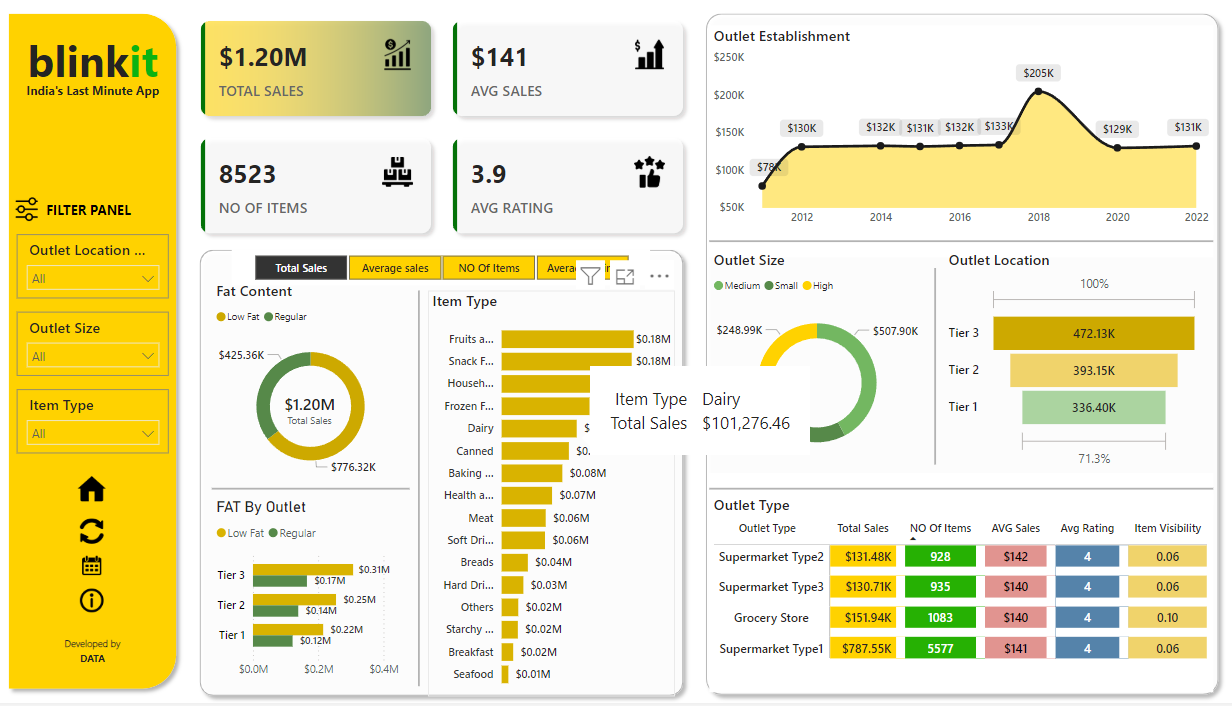

This screenshot's page, from the dashboard's own definition file:
{"tool":"powerbi","page":{"name":"Dashboard","canvas":[1400,800],"ordinal":0},"visuals":[{"type":"shape","box":[13.9,25,204.2,768.1],"z":0},{"type":"textbox","box":[32.2,46.9,168.9,77.7],"z":1000},{"type":"textbox","box":[32.2,105.9,168.9,37.5],"z":2000},{"type":"cardVisual","fields":{"Data":["BlinkIT Grocery Data.Total Sales","BlinkIT Grocery Data.Average sales","BlinkIT Grocery Data.NO Of Items","BlinkIT Grocery Data.Average rating"]},"box":[219.1,25.5,570.3,270.2],"z":3000},{"type":"shape","box":[226.5,286.9,555,513.4],"z":4000},{"type":"donutChart","title":"Fat Content","fields":{"Y":["BlinkIT Grocery Data.Total Sales"],"Category":["BlinkIT Grocery Data.Item Fat Content"]},"box":[248,331.1,219.8,230.6],"z":5000},{"type":"slicer","fields":{"Values":["Metrics.Metrics"]},"box":[270.8,296.2,465.1,40.2],"z":6000},{"type":"cardVisual","fields":{"Data":["BlinkIT Grocery Data.Total Sales"]},"box":[298.9,433,118,83.1],"z":7000},{"type":"clusteredBarChart","title":"FAT By Outlet","fields":{"Y":["BlinkIT Grocery Data.Total Sales"],"Series":["BlinkIT Grocery Data.Item Fat Content"],"Category":["BlinkIT Grocery Data.Outlet Location Type"]},"box":[248,572.4,219.8,209.1],"z":8000},{"type":"shape","box":[248,544.2,219.8,34.9],"z":9000},{"type":"shape","box":[467.8,341.8,21.4,439.7],"z":10000},{"type":"barChart","title":"Item Type","fields":{"Y":["BlinkIT Grocery Data.Total Sales"],"Category":["BlinkIT Grocery Data.Item Type"]},"box":[489.3,341.8,274.8,451.7],"z":11000},{"type":"shape","box":[788.2,25.5,587.1,774.8],"z":12000},{"type":"lineChart","title":"Outlet Establishment","fields":{"Y":["BlinkIT Grocery Data.Total Sales"],"Category":["BlinkIT Grocery Data.Outlet Establishment Year"]},"box":[801.6,46.9,560.3,231.9],"z":13000},{"type":"shape","box":[801.6,269.4,560.3,34.9],"z":14000},{"type":"donutChart","title":"Outlet Size","fields":{"Y":["BlinkIT Grocery Data.Total Sales"],"Category":["BlinkIT Grocery Data.Outlet Size"]},"box":[801.6,296.2,239.9,248],"z":15000},{"type":"shape","box":[1041.6,316.4,21.4,218.5],"z":16000},{"type":"funnel","title":"Outlet Location","fields":{"Category":["BlinkIT Grocery Data.Outlet Location Type"],"Y":["Sum(BlinkIT Grocery Data.Sales)"]},"box":[1063,296.2,288.2,248],"z":17000},{"type":"shape","box":[801.6,544.2,560.3,34.9],"z":18000},{"type":"pivotTable","title":"Outlet Type","fields":{"Values":["BlinkIT Grocery Data.Total Sales","BlinkIT Grocery Data.NO Of Items","BlinkIT Grocery Data.Average sales","BlinkIT Grocery Data.Average rating","Avg(BlinkIT Grocery Data.Item Visibility)"],"Rows":["BlinkIT Grocery Data.Outlet Type"]},"box":[801.6,568.4,560.3,219.8],"z":19000},{"type":"slicer","fields":{"Values":["BlinkIT Grocery Data.Outlet Location Type"]},"box":[32.2,278.8,168.9,71],"z":20000},{"type":"slicer","fields":{"Values":["BlinkIT Grocery Data.Outlet Size"]},"box":[32.2,364.6,168.9,71],"z":21000},{"type":"slicer","fields":{"Values":["BlinkIT Grocery Data.Item Type"]},"box":[32.2,451.7,168.9,71],"z":22000},{"type":"textbox","box":[55.4,237.8,121.6,29.7],"z":23000},{"type":"image","box":[18.9,233.8,47.3,36.5],"z":24000},{"type":"image","box":[91.9,537.8,47.3,48.6],"z":25000},{"type":"image","box":[91.7,590.3,47.2,37.5],"z":25002},{"type":"image","box":[91.7,629.2,47.2,36.1],"z":25003},{"type":"image","box":[91.7,668.1,47.2,36.1],"z":25004},{"type":"textbox","box":[70.8,718.1,90.3,54.2],"z":25005}]}

Visuals, with their boxes in screenshot pixels (x1, y1, x2, y2), scaled from the page's 1400x800 canvas onto the 1232x706 screenshot:
shape: bbox=(12, 22, 192, 700)
textbox: bbox=(28, 41, 177, 110)
textbox: bbox=(28, 93, 177, 127)
cardVisual - BlinkIT Grocery Data.Total Sales x BlinkIT Grocery Data.Average sales: bbox=(193, 23, 695, 261)
shape: bbox=(199, 253, 688, 705)
"Fat Content" donutChart: bbox=(218, 292, 412, 496)
slicer - Metrics.Metrics: bbox=(238, 261, 648, 297)
cardVisual - BlinkIT Grocery Data.Total Sales: bbox=(263, 382, 367, 455)
"FAT By Outlet" clusteredBarChart: bbox=(218, 505, 412, 690)
shape: bbox=(218, 480, 412, 511)
shape: bbox=(412, 302, 430, 690)
"Item Type" barChart: bbox=(431, 302, 672, 700)
shape: bbox=(694, 23, 1210, 705)
"Outlet Establishment" lineChart: bbox=(705, 41, 1198, 246)
shape: bbox=(705, 238, 1198, 269)
"Outlet Size" donutChart: bbox=(705, 261, 917, 480)
shape: bbox=(917, 279, 935, 472)
"Outlet Location" funnel: bbox=(935, 261, 1189, 480)
shape: bbox=(705, 480, 1198, 511)
"Outlet Type" pivotTable: bbox=(705, 502, 1198, 696)
slicer - BlinkIT Grocery Data.Outlet Location Type: bbox=(28, 246, 177, 309)
slicer - BlinkIT Grocery Data.Outlet Size: bbox=(28, 322, 177, 384)
slicer - BlinkIT Grocery Data.Item Type: bbox=(28, 399, 177, 461)
textbox: bbox=(49, 210, 156, 236)
image: bbox=(17, 206, 58, 239)
image: bbox=(81, 475, 122, 517)
image: bbox=(81, 521, 122, 554)
image: bbox=(81, 555, 122, 587)
image: bbox=(81, 590, 122, 621)
textbox: bbox=(62, 634, 142, 682)
